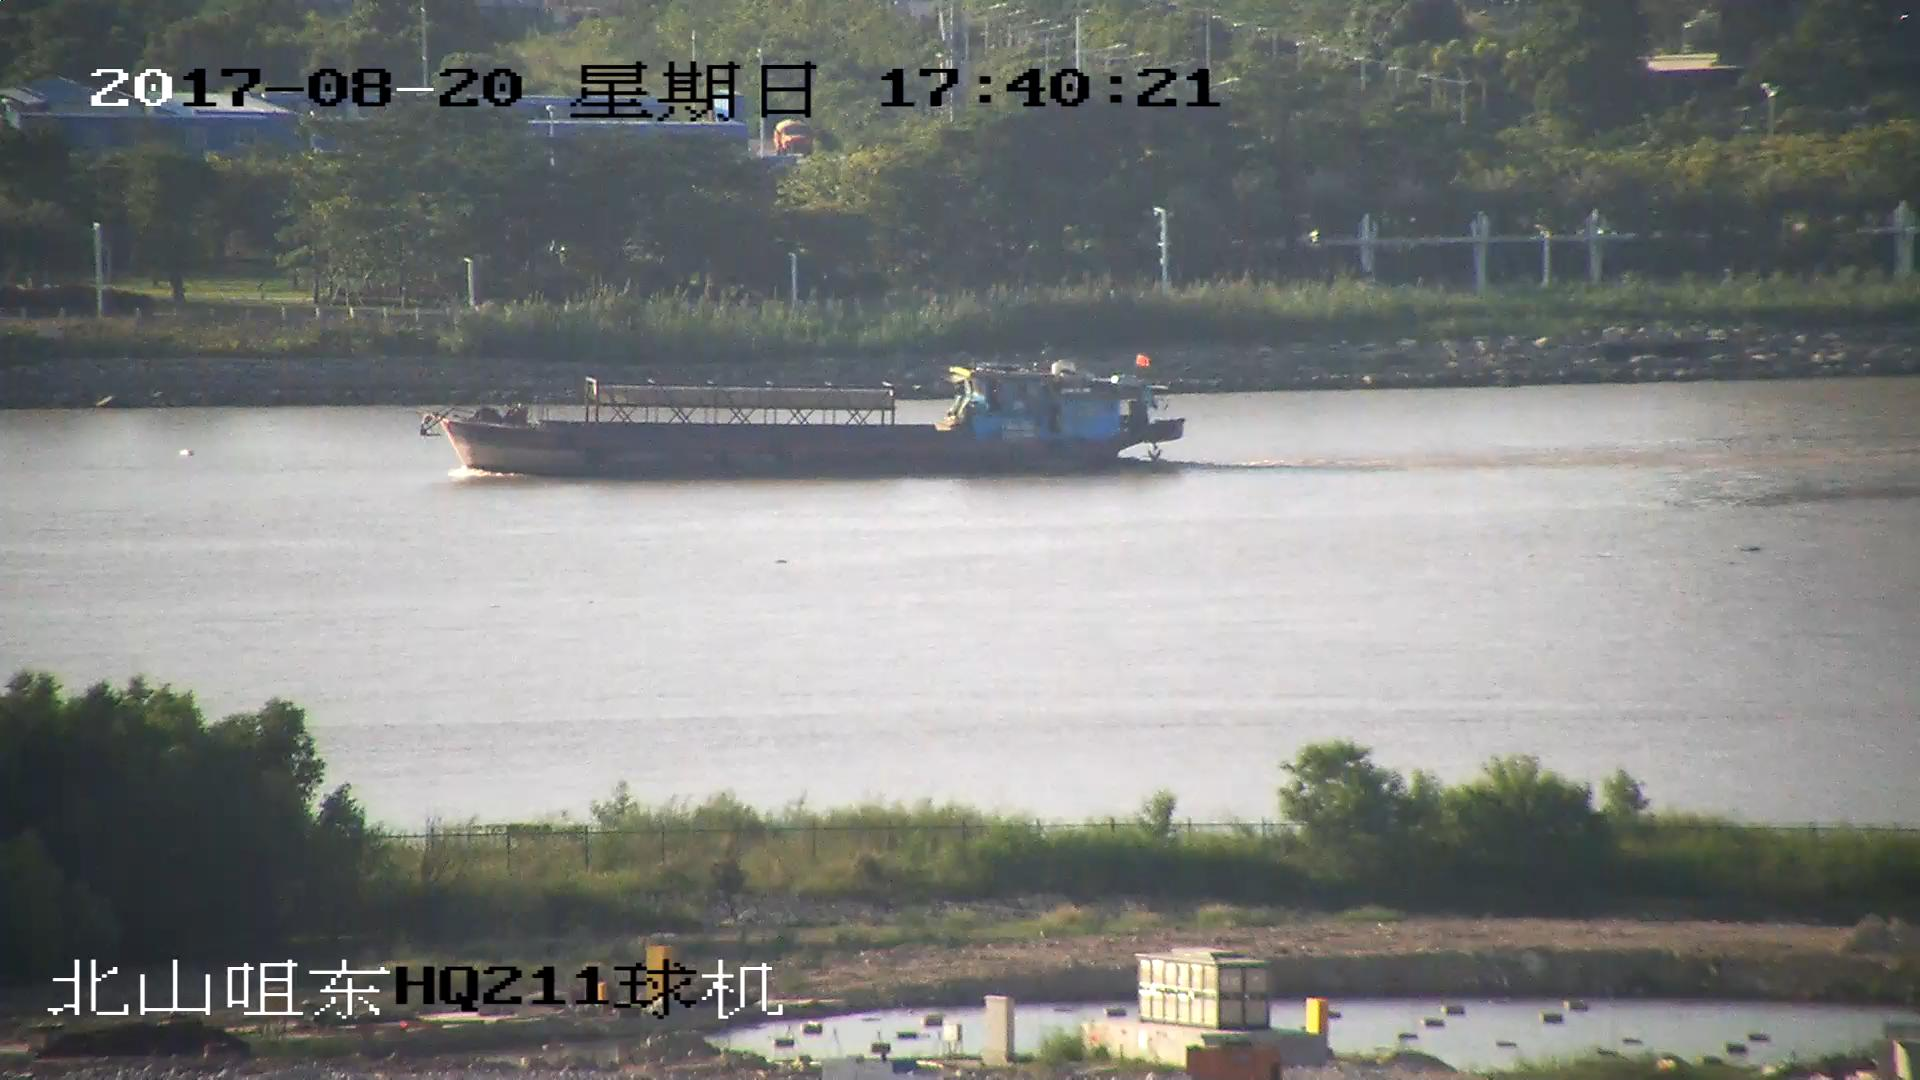fishing boat: (420, 348, 1184, 476)
